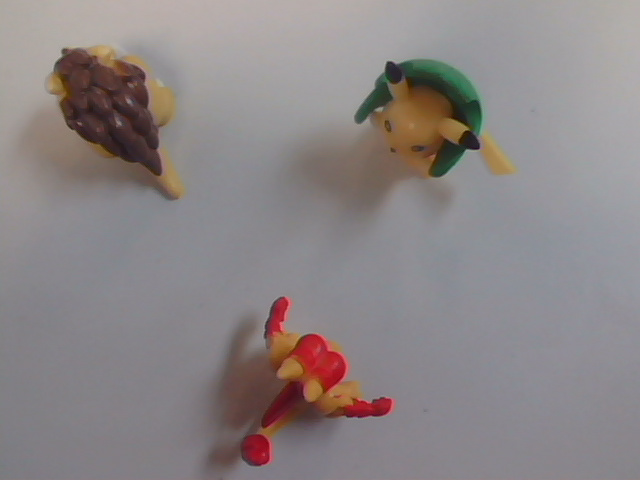magmar: (194, 283, 424, 480)
pikachu: (341, 15, 545, 222)
sandslash: (34, 24, 216, 219)
